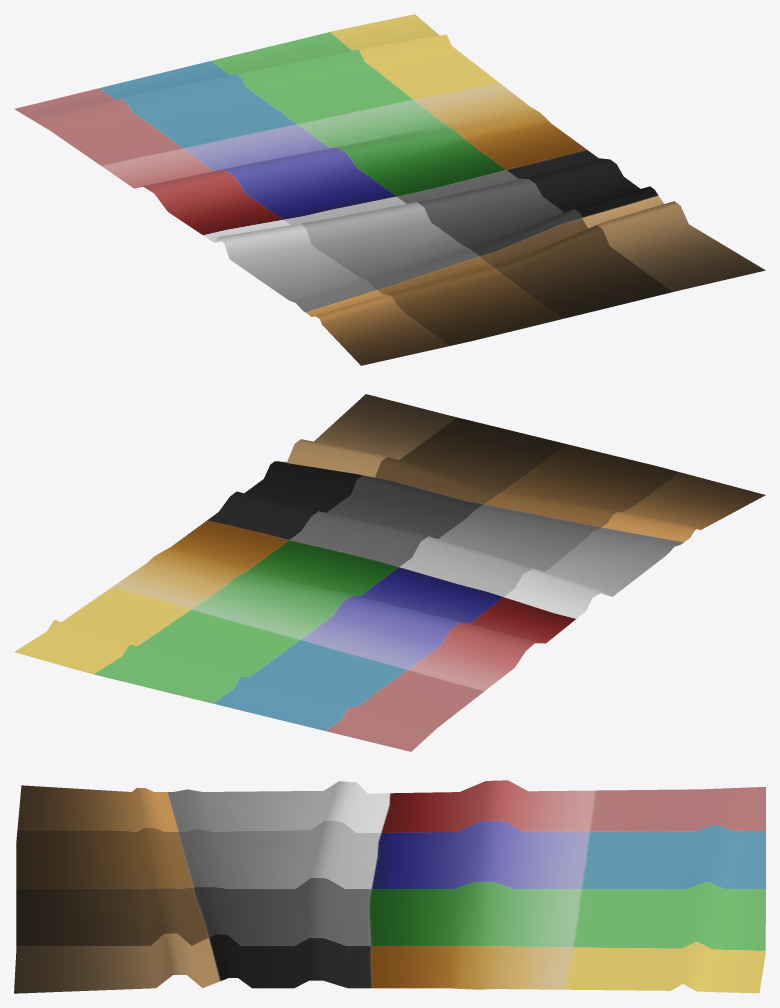
File: tappeto.fbx
3 renders of one model, top to bottom at view 1: azimuth 30°, elevation 25°; view 2: azimuth 150°, elevation 25°; view 3: azimuth 270°, elevation 25°, orthographic. The views are drawn at different scales.
Visible parts, largest first — view 1: tapppeto; view 2: tapppeto; view 3: tapppeto.
Part boxes in pixels (x1=…): tapppeto: x1=14, y1=14, x2=765, y2=365; tapppeto: x1=14, y1=394, x2=765, y2=751; tapppeto: x1=14, y1=780, x2=765, y2=993.
Size of the model in its own units: 613 by 18.26 by 935.
